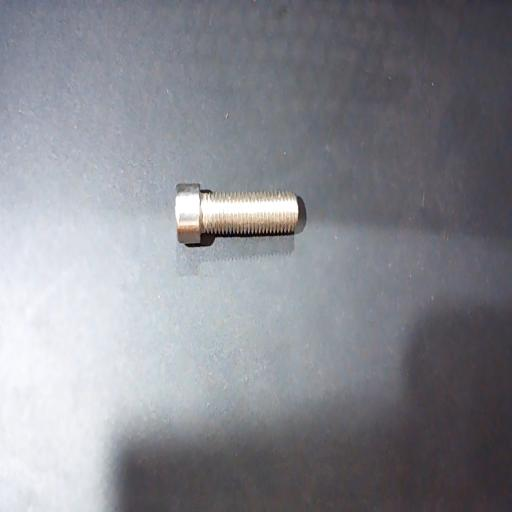screw: (174, 182, 299, 245)
